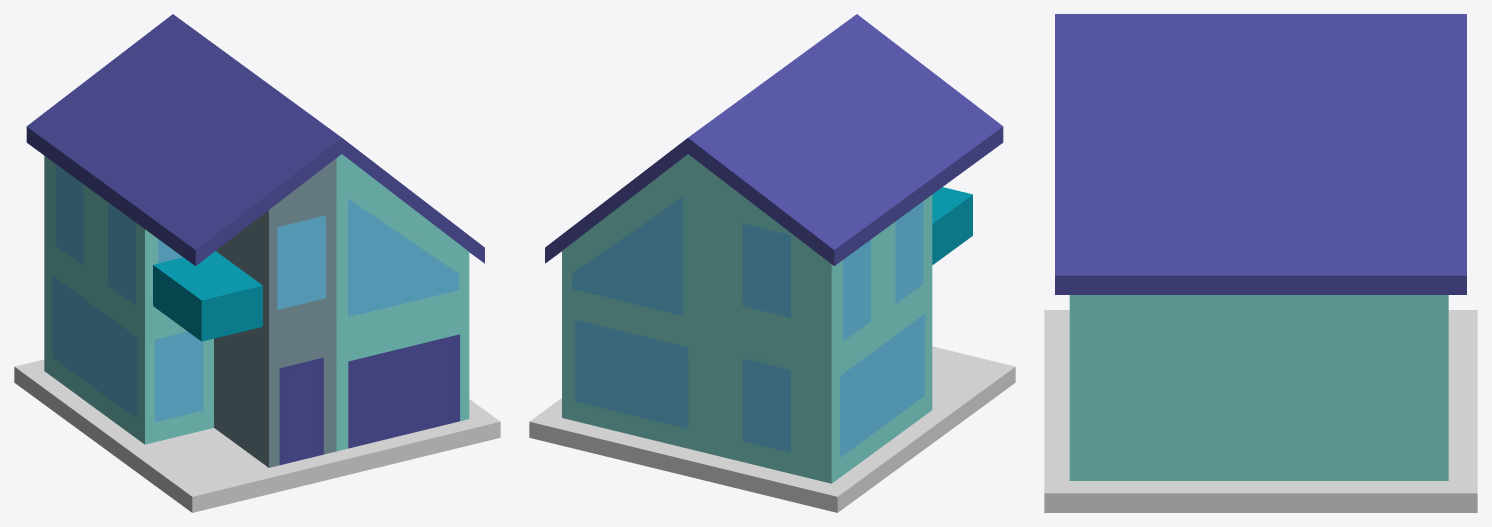
File: Living_House_3.FBX
The picture shows the model from 3 angles, left to right: view 1: azimuth 30°, elevation 25°; view 2: azimuth 150°, elevation 25°; view 3: azimuth 270°, elevation 25°; orthographic projection. The views are drawn at different scales.
Visible parts, largest first — view 1: Box004, Box001; view 2: Box004, Box001; view 3: Box004, Box001.
Part boxes in pixels (left/top/right/bottom): Box004: left=26, top=14, right=484, bottom=467; Box001: left=14, top=359, right=500, bottom=512; Box004: left=545, top=14, right=1003, bottom=483; Box001: left=529, top=346, right=1015, bottom=512; Box004: left=1055, top=14, right=1466, bottom=480; Box001: left=1044, top=310, right=1477, bottom=512.
Bounding box in the file's own units: 1 × 1.04 × 1.
3 materials, 3 textured.
